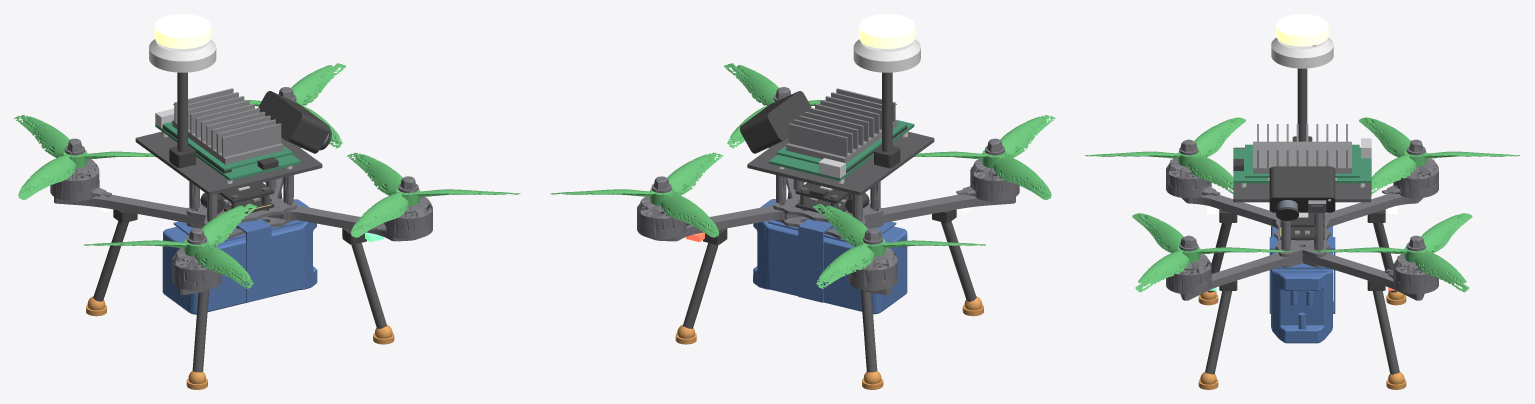
The model's file is scout.glb.
3 renders of one model, left to right at view 1: azimuth 30°, elevation 25°; view 2: azimuth 150°, elevation 25°; view 3: azimuth 270°, elevation 25°, orthographic. The views are drawn at different scales.
Parts seen in each view (by area): view 1: airframe, battery_under_frame, NVIDIA_Jetson_Nano_4GB___carrier_3, Top_adapter_plate_1, rotor_0_visual, rotor_3_visual, rotor_1_visual, Landing_gear__4x_CF_legs__1, Sensor_head__IMX219_RGB___Lepton_3_5_thermal_1, role_beacon, NVIDIA_Jetson_Nano_4GB___carrier_1, M10_GNSS___compass_on_mast_2 (+6 smaller); view 2: airframe, battery_under_frame, NVIDIA_Jetson_Nano_4GB___carrier_3, Top_adapter_plate_1, rotor_2_visual, rotor_1_visual, rotor_3_visual, Landing_gear__4x_CF_legs__1, Sensor_head__IMX219_RGB___Lepton_3_5_thermal_1, role_beacon, M10_GNSS___compass_on_mast_2, NVIDIA_Jetson_Nano_4GB___carrier_1 (+7 smaller); view 3: airframe, battery_under_frame, NVIDIA_Jetson_Nano_4GB___carrier_3, Sensor_head__IMX219_RGB___Lepton_3_5_thermal_1, Landing_gear__4x_CF_legs__1, rotor_0_visual, rotor_2_visual, rotor_1_visual, rotor_3_visual, NVIDIA_Jetson_Nano_4GB___carrier_1, role_beacon, Top_adapter_plate_1 (+5 smaller).
Part boxes in pixels (<box>): airframe: <box>50,87,432,294</box>; battery_under_frame: <box>162,199,317,314</box>; NVIDIA_Jetson_Nano_4GB___carrier_3: <box>172,88,283,164</box>; Top_adapter_plate_1: <box>135,131,322,195</box>; rotor_0_visual: <box>347,152,520,237</box>; rotor_3_visual: <box>84,203,256,288</box>; rotor_1_visual: <box>14,115,155,199</box>; Landing_gear__4x_CF_legs__1: <box>93,191,386,372</box>; Sensor_head__IMX219_RGB___Lepton_3_5_thermal_1: <box>258,91,331,153</box>; role_beacon: <box>154,14,210,48</box>; NVIDIA_Jetson_Nano_4GB___carrier_1: <box>155,122,300,180</box>; M10_GNSS___compass_on_mast_2: <box>149,39,216,72</box>; airframe: <box>637,87,1019,294</box>; battery_under_frame: <box>753,199,907,314</box>; NVIDIA_Jetson_Nano_4GB___carrier_3: <box>786,88,897,163</box>; Top_adapter_plate_1: <box>747,131,934,195</box>; rotor_2_visual: <box>550,152,722,237</box>; rotor_1_visual: <box>813,203,985,288</box>; rotor_3_visual: <box>914,115,1055,199</box>; Landing_gear__4x_CF_legs__1: <box>683,191,976,372</box>; Sensor_head__IMX219_RGB___Lepton_3_5_thermal_1: <box>740,91,811,153</box>; role_beacon: <box>859,14,915,48</box>; M10_GNSS___compass_on_mast_2: <box>853,39,920,72</box>; NVIDIA_Jetson_Nano_4GB___carrier_1: <box>769,120,914,180</box>; airframe: <box>1166,139,1438,300</box>; battery_under_frame: <box>1269,226,1335,343</box>; NVIDIA_Jetson_Nano_4GB___carrier_3: <box>1253,124,1351,173</box>; Sensor_head__IMX219_RGB___Lepton_3_5_thermal_1: <box>1269,166,1335,220</box>; Landing_gear__4x_CF_legs__1: <box>1205,223,1399,374</box>; rotor_0_visual: <box>1132,213,1292,292</box>; rotor_2_visual: <box>1311,213,1472,292</box>; rotor_1_visual: <box>1359,117,1519,194</box>; rotor_3_visual: <box>1085,117,1245,194</box>; NVIDIA_Jetson_Nano_4GB___carrier_1: <box>1233,144,1371,183</box>; role_beacon: <box>1276,14,1328,46</box>; Top_adapter_plate_1: <box>1233,147,1371,202</box>.
Bounding box in the file's own units: 0.2493 × 0.1963 × 0.2648.
